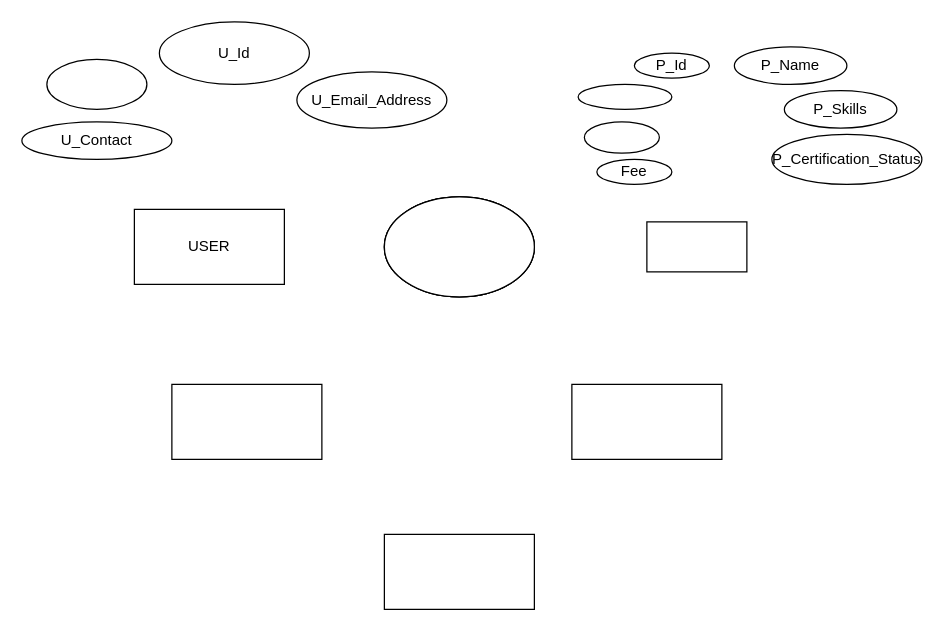
Image size: 944x631. Some labels were removed from this diagram. The box of each missing label's shape, as (x1, y1, x2, y2) in pixels:
P_Phone: (577, 83, 672, 109)
P_Type: (583, 121, 659, 153)
PROVIDER: (646, 221, 747, 272)
U_Name: (46, 58, 147, 109)
